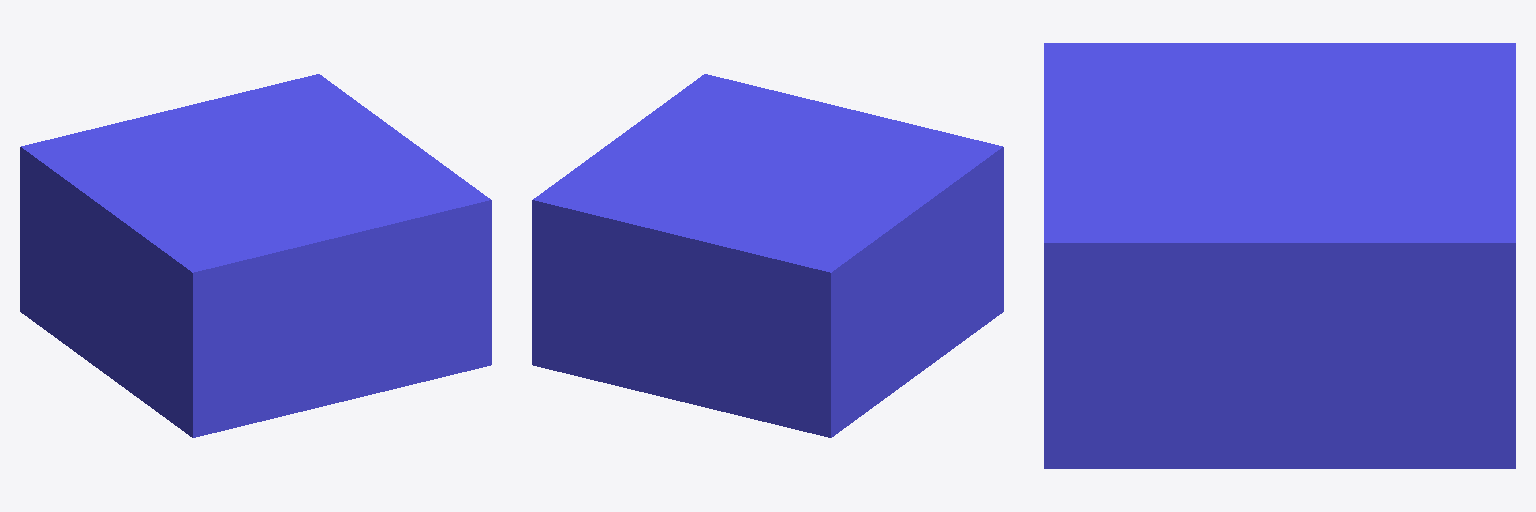
robot.urdf — block:
<robot name="block">
  <link name="block">

    <inertial>
      <origin xyz="0 0 0" />
      <mass value="0.1" />
      <inertia  ixx="0.00003375" ixy="0.0"  ixz="0.0"  iyy="0.00003375"  iyz="0.0"  izz="0.00003375" />
    </inertial>

    <visual>
      <origin xyz="0 0 0"/>
      <geometry>
        <box size="0.085 0.085 0.045" />
      </geometry>
      <material name="red">
        <color rgba="0.4 0.4 1.0 1.0"/>
      </material>
    </visual>

    <collision>
      <origin xyz="0 0 0"/>
      <geometry>
        <box size="0.085 0.085 0.045" />
      </geometry>
    </collision>

  </link>


</robot>

--- Facts derived from the render (not from the file) ---
Views: 3 orthographic renders of the robot side by side, from view 1: azimuth 30°, elevation 25°; view 2: azimuth 150°, elevation 25°; view 3: azimuth 270°, elevation 25°.
Model block with 1 links and 0 joints (none), rooted at block, posed all joints at 0.
Visible links, largest first — view 1: block; view 2: block; view 3: block.
Boxes of the visible links, left/top/right/bottom form: block: left=20, top=74, right=491, bottom=437; block: left=532, top=74, right=1003, bottom=437; block: left=1044, top=43, right=1515, bottom=468.
Bounding box of the posed robot: 0.085 × 0.085 × 0.045 m (x, y, z).
Geometry: primitives only (box / cylinder / sphere), no mesh files.
